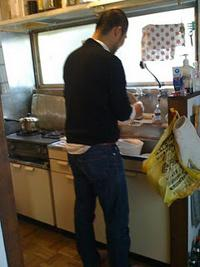person: (64, 8, 143, 267)
